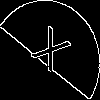X: (25, 25, 72, 82)
